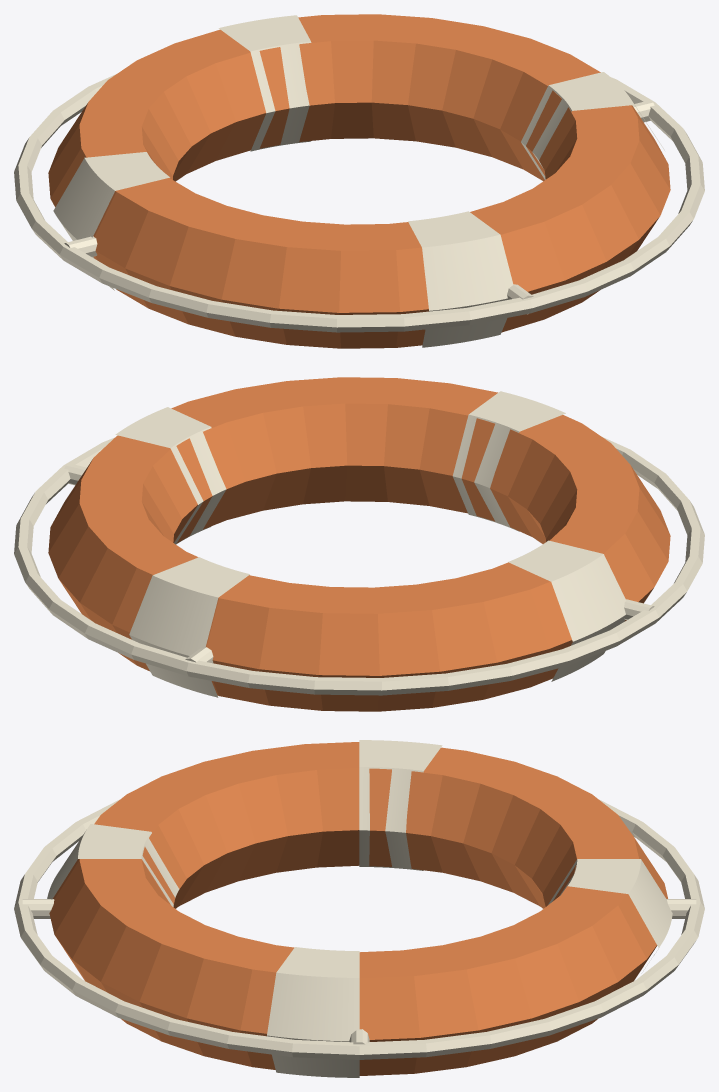
File: harbor-and-tackle-rescue-ring-9ae69917__19561.glb
3 renders of one model, top to bottom at view 1: azimuth 30°, elevation 25°; view 2: azimuth 150°, elevation 25°; view 3: azimuth 270°, elevation 25°, orthographic.
Visible parts, largest first — view 1: orange, ivory; view 2: orange, ivory; view 3: orange, ivory.
Boxes of the visible parts, bbox=[...] form: orange: bbox=[48, 14, 670, 348]; ivory: bbox=[14, 15, 704, 347]; orange: bbox=[48, 377, 670, 711]; ivory: bbox=[14, 391, 704, 697]; orange: bbox=[49, 742, 667, 1075]; ivory: bbox=[14, 740, 704, 1077].
Bounding box in the file's own units: 0.944 × 0.1507 × 0.944.
